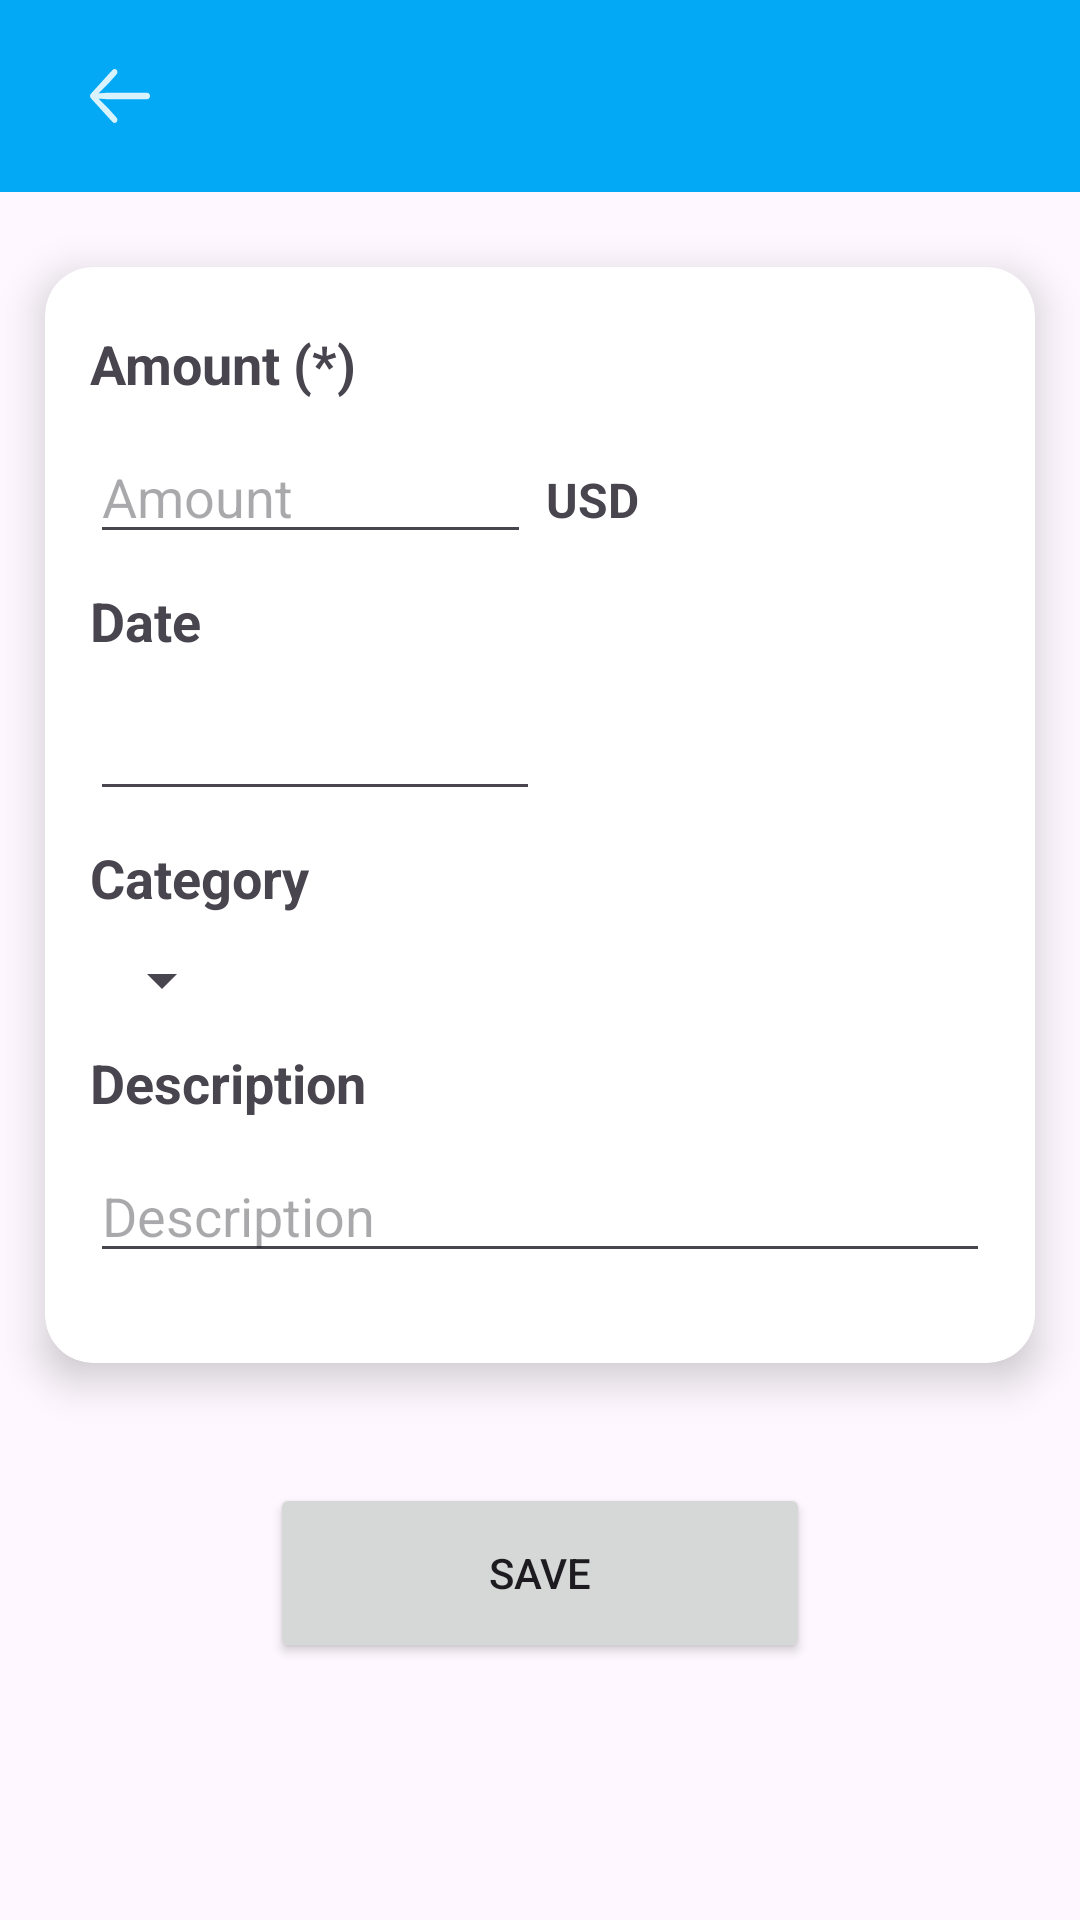

Screen size 1080w x 1920h. Icon name, then its box in pixels as (x1, y1, x2, y2):
arrow backward: (90, 69, 150, 123)
